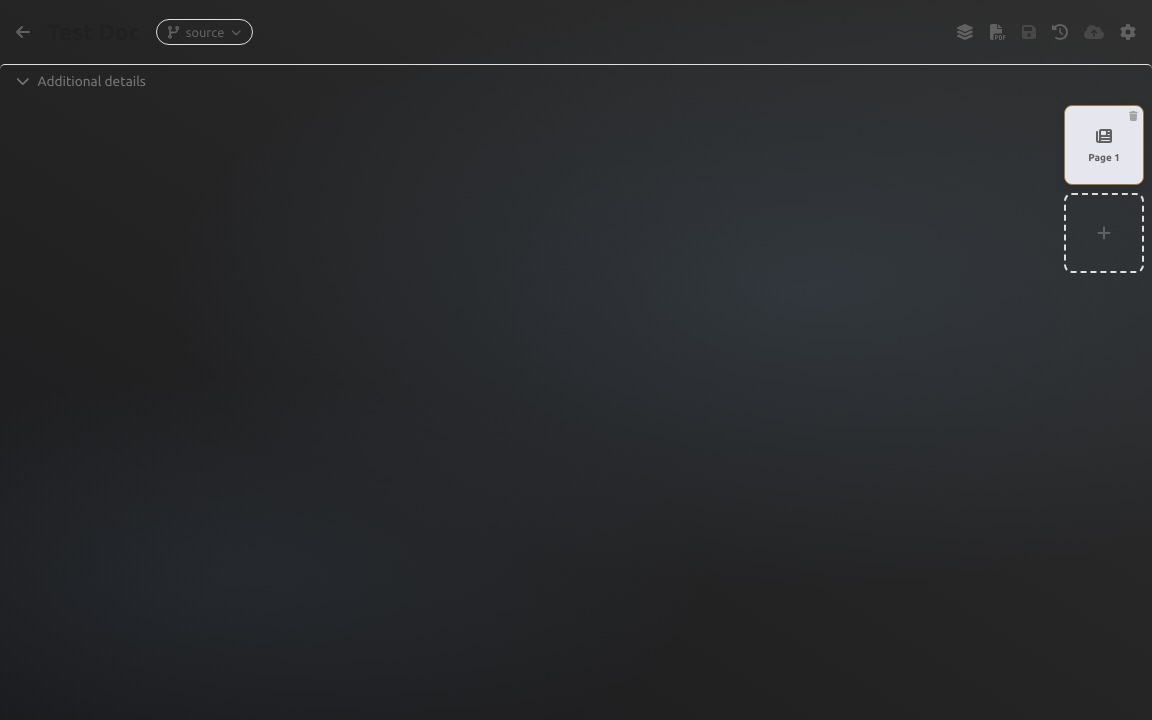
it: SpellEditForm › versions › opens what a seal changed from the chronicle
Expected: the element with test id "spell-edit-form" is shown, [0, 18, 1151, 273]
Click the button with test id "spell-edit-chronicle-btn": [1060, 32] box [1052, 24, 1068, 40]
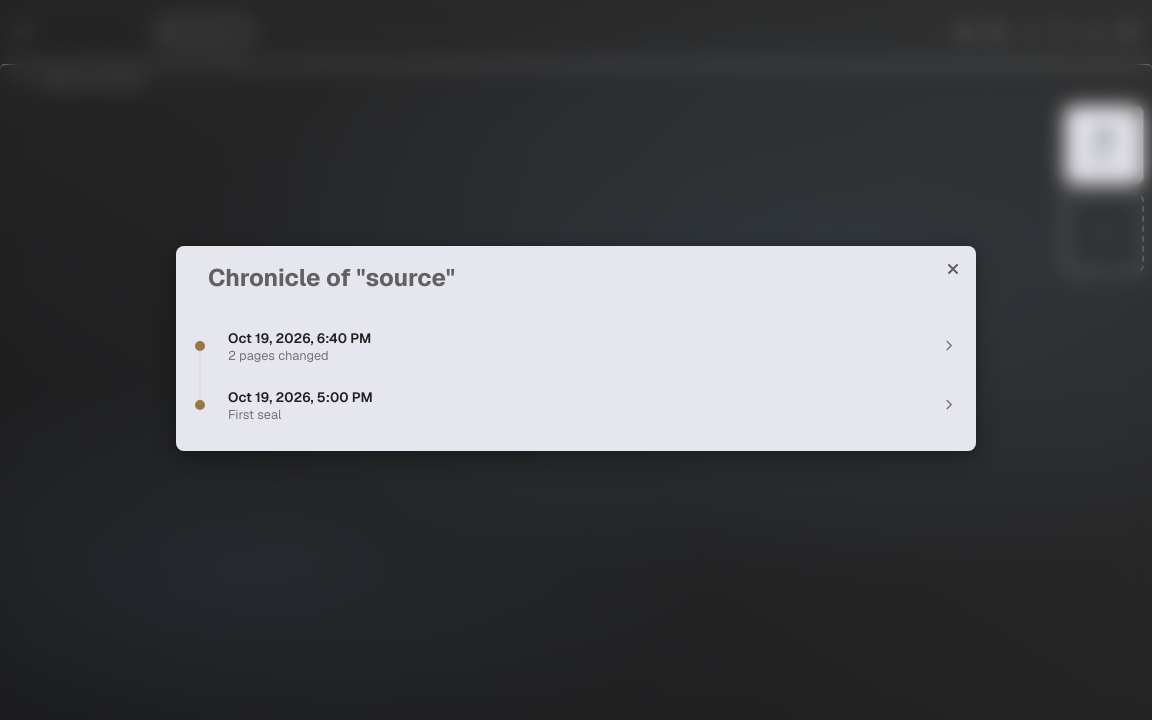
Click the button with test id "chronicle-open-s2": [300, 338] box [220, 324, 960, 368]
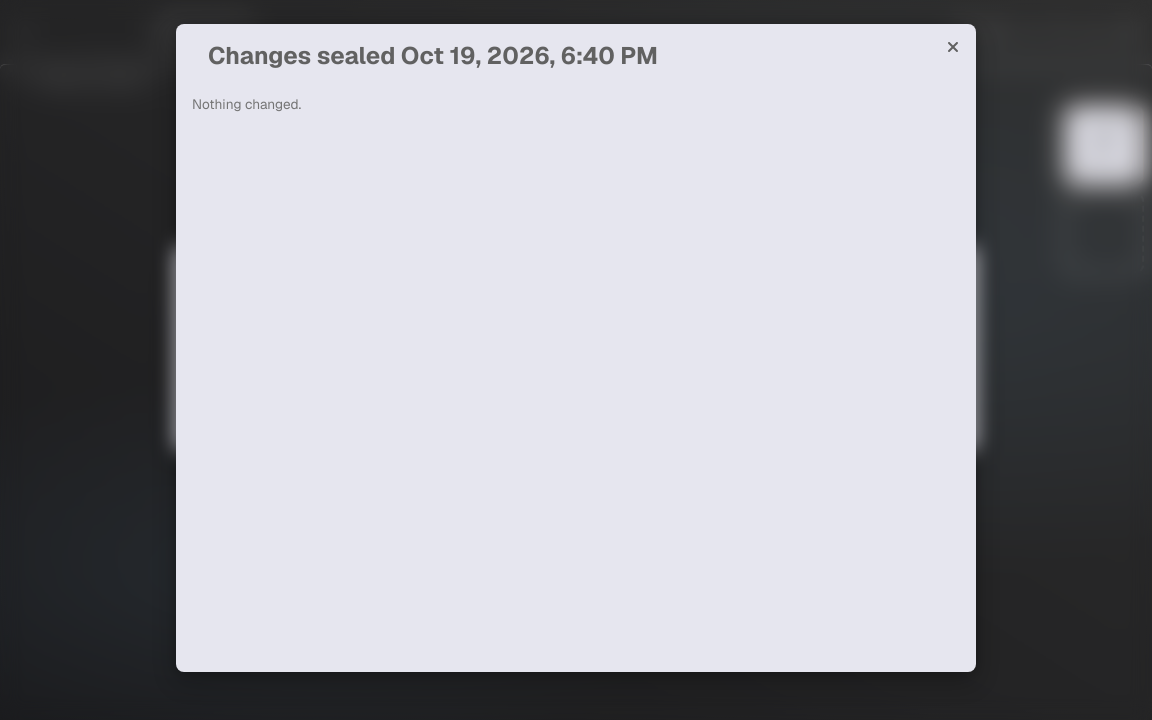
Expected: the text "Nothing changed." is shown, [192, 95, 301, 113]
